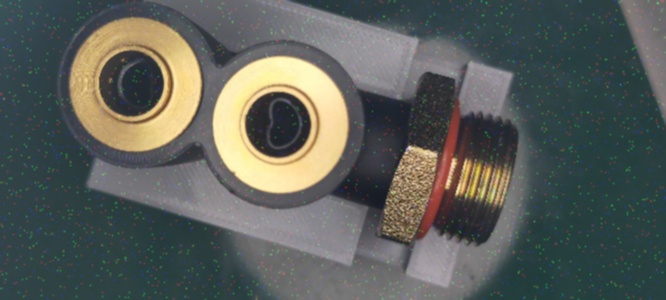off-centered: (116, 51, 162, 116), (261, 93, 309, 153)
